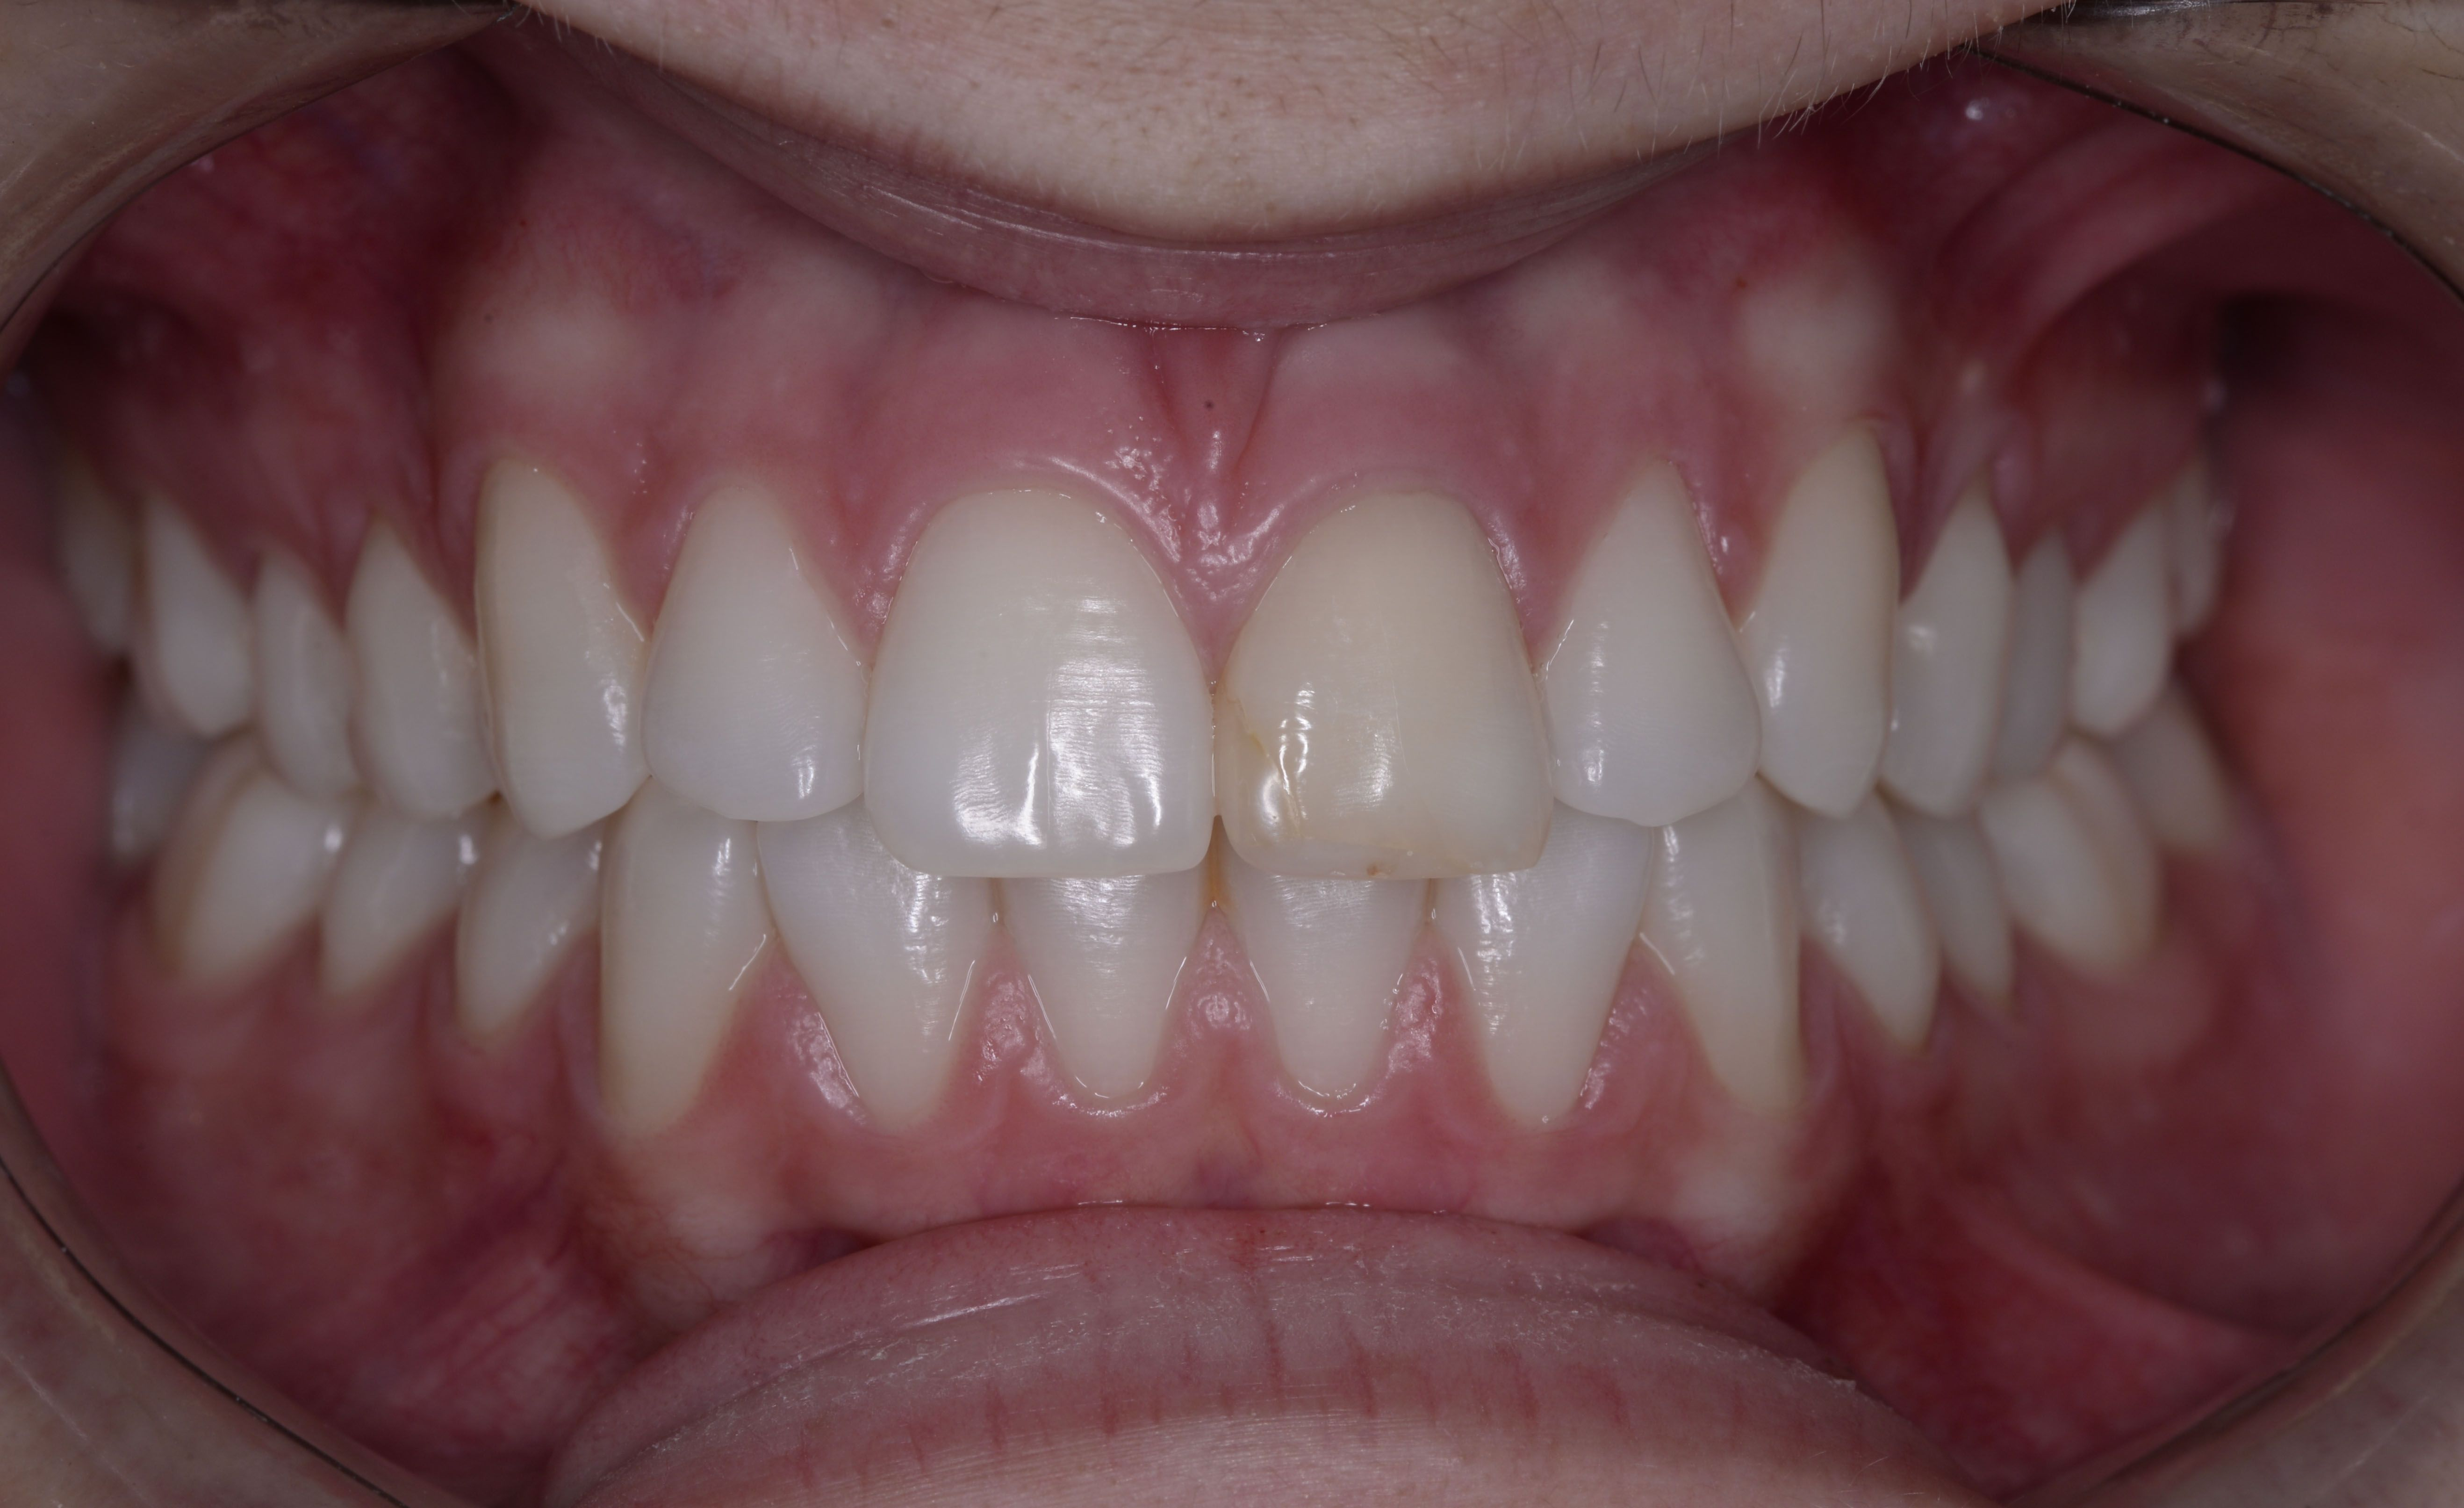LL1BC_healthy: (1811, 824, 1943, 1049)
LL1M_healthy: (2008, 772, 2160, 970)
LL2BC_healthy: (1929, 829, 2017, 1005)
LL2M_healthy: (2145, 730, 2228, 850)
LLCI_healthy: (1223, 880, 1424, 1094)
LLC_healthy: (1644, 824, 1808, 1100)
LLLI_healthy: (1447, 852, 1644, 1119)
LR1BC_healthy: (456, 827, 598, 1036)
LR1M_healthy: (151, 771, 329, 973)
LR2BC_healthy: (320, 820, 456, 1005)
LRCI_healthy: (998, 878, 1204, 1091)
LRC_healthy: (598, 824, 767, 1130)
LRLI_healthy: (762, 829, 991, 1116)
UL1BC_healthy: (1896, 507, 2012, 820)
UL1M_healthy: (2082, 503, 2168, 736)
UL2BC_healthy: (2010, 537, 2073, 778)
ULCI_healthy: (1216, 503, 1552, 880)
ULC_healthy: (1758, 435, 1894, 815)
ULLI_healthy: (1549, 472, 1762, 822)
UR1BC_healthy: (347, 528, 477, 824)
UR1M_healthy: (136, 509, 252, 730)
UR2BC_healthy: (257, 558, 350, 795)
URCI_healthy: (862, 494, 1213, 880)
URC_healthy: (472, 466, 648, 834)
URLI_healthy: (646, 487, 862, 822)
